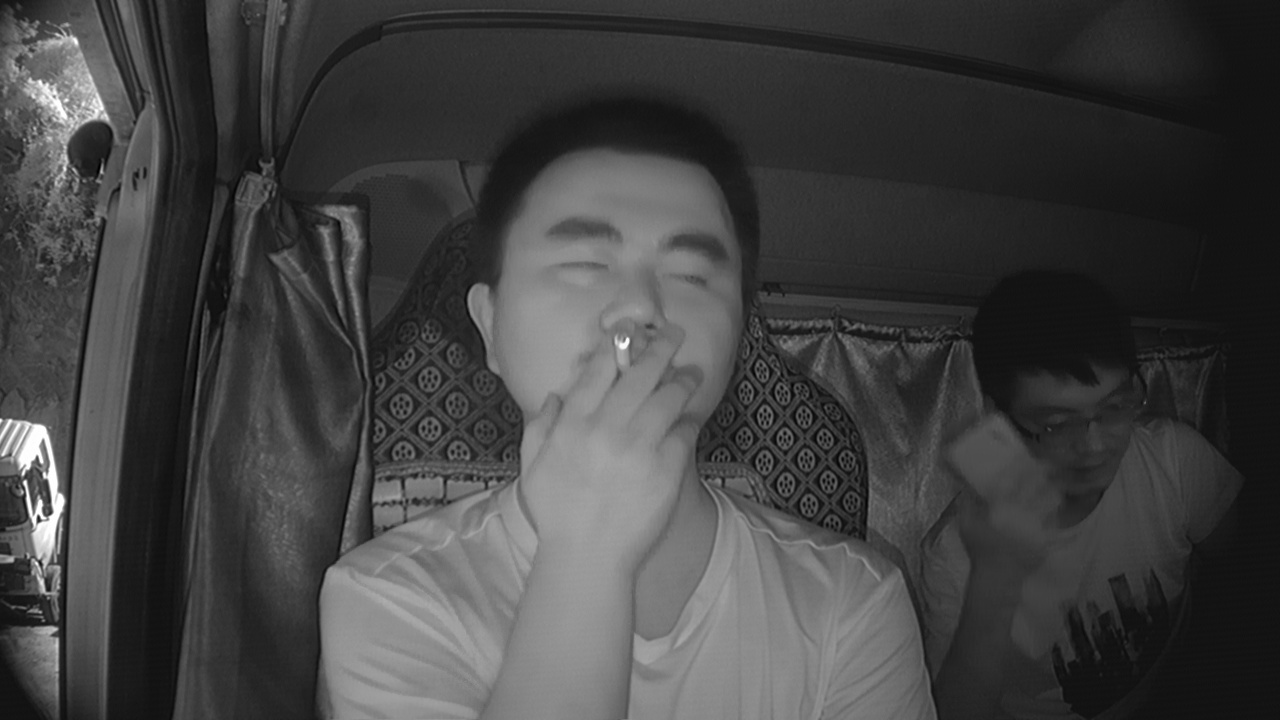hand: (526, 335, 709, 533)
